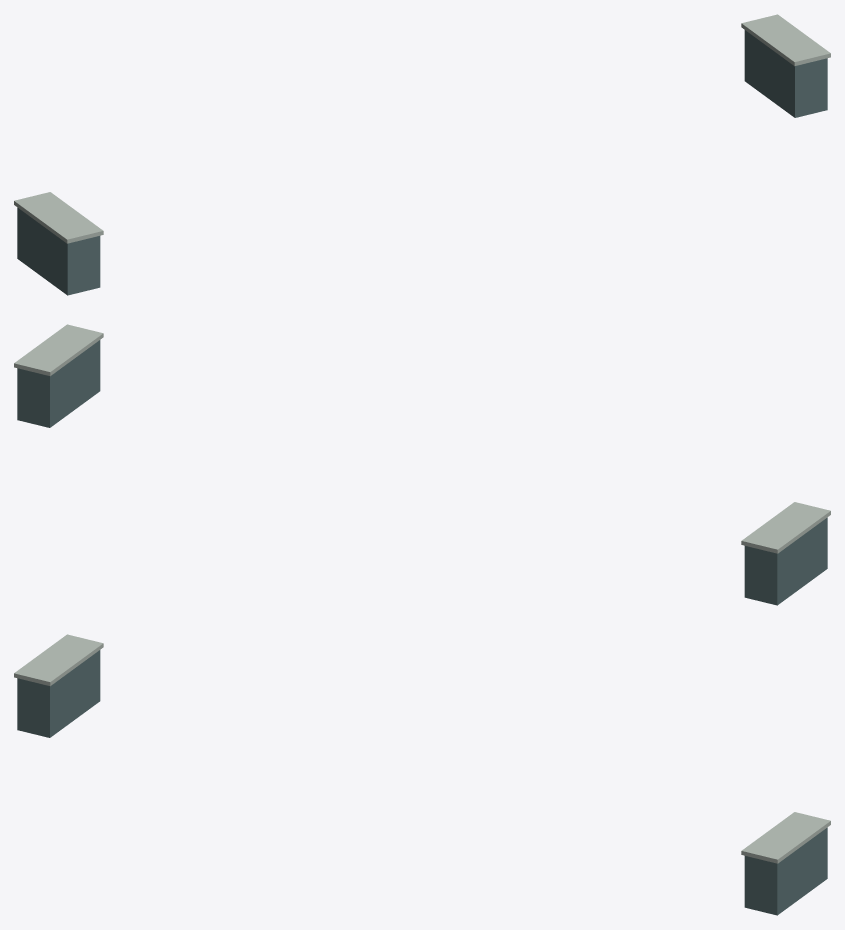
File: SM_R02A_Optional_Cover.fbx
The picture shows the model from 3 angles, top to bottom: view 1: azimuth 30°, elevation 25°; view 2: azimuth 150°, elevation 25°; view 3: azimuth 330°, elevation 25°; orthographic projection.
Parts seen in each view (by area): view 1: SM_R02A_Optional_Cover; view 2: SM_R02A_Optional_Cover; view 3: SM_R02A_Optional_Cover.
Part boxes in pixels (x1,y1,x2,y2): SM_R02A_Optional_Cover: (14, 14, 830, 295); SM_R02A_Optional_Cover: (14, 324, 830, 605); SM_R02A_Optional_Cover: (14, 634, 830, 915).
Bounding box in the file's own units: 3150 × 380 × 226.
